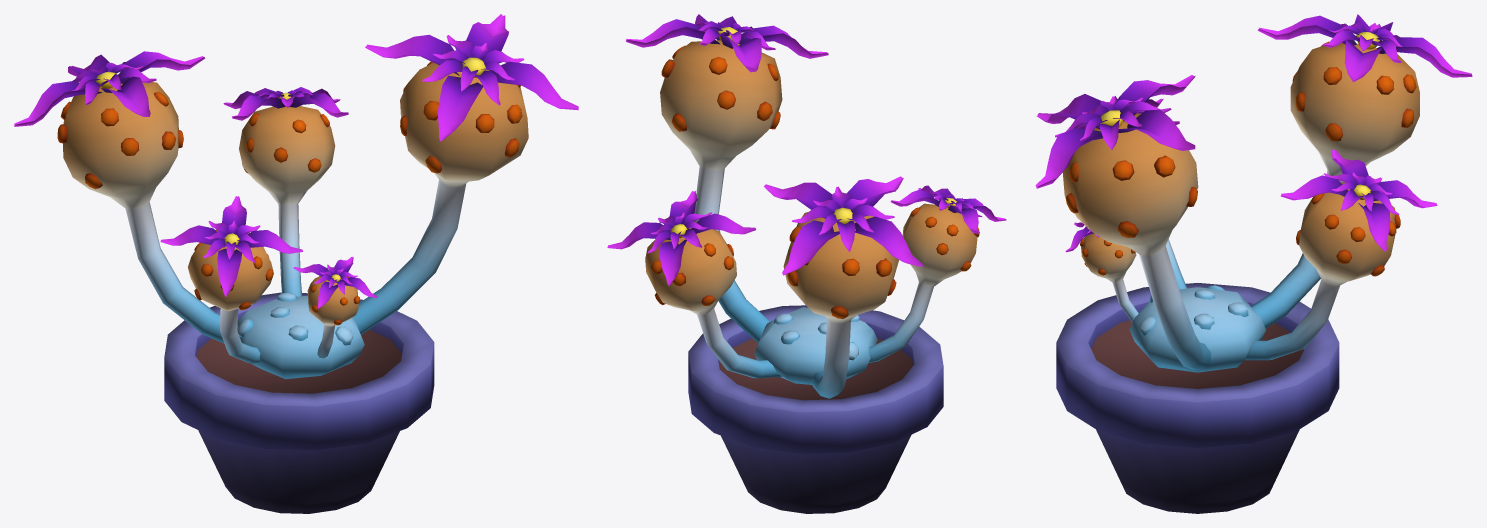
File: wp_wPot_3.fbx
3 views of the same model, side by side, from view 1: azimuth 30°, elevation 25°; view 2: azimuth 150°, elevation 25°; view 3: azimuth 270°, elevation 25° (orthographic). The views are drawn at different scales.
Visible parts, largest first — view 1: w_pl3; view 2: w_pl3; view 3: w_pl3.
Boxes of the visible parts, x1,y1,x2,y2 form: w_pl3: [14, 14, 578, 513]; w_pl3: [607, 14, 1006, 513]; w_pl3: [1035, 14, 1472, 513].
Size of the model in its own units: 179 by 185 by 162.
